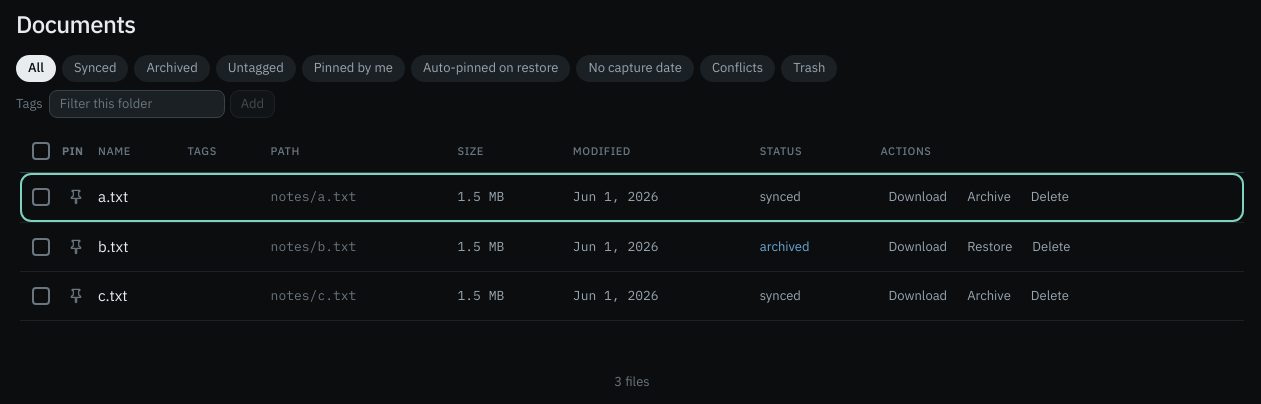
FileBrowser › should archive a synced row on demand
The width and height of the screenshot is (1261, 404).
expect the button "a.txt" is shown: met, box [98, 186, 128, 209]
Click the button "Archive" in the row of "notes/a.txt": (989, 197) [959, 184, 1019, 211]
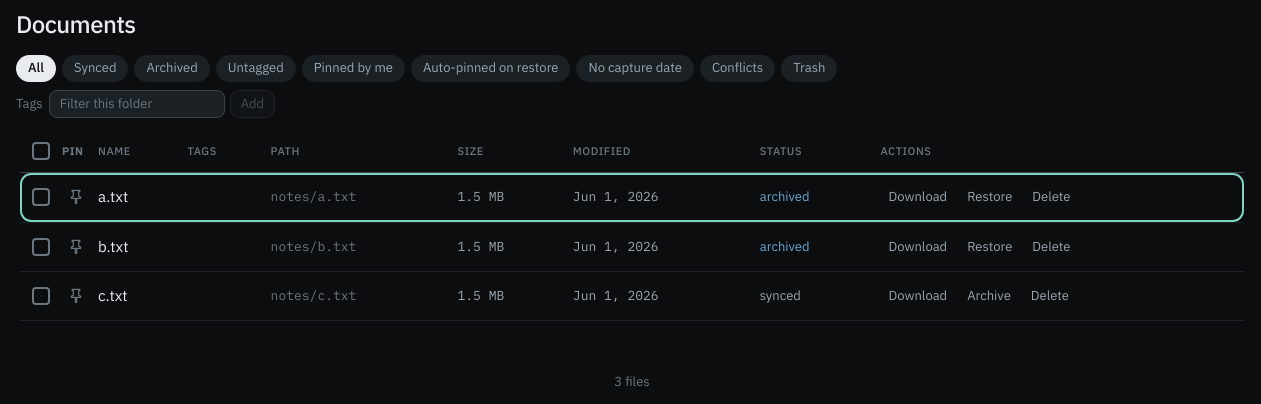
expect the text "archived" in the row of "notes/a.txt" is shown: met, box [760, 188, 810, 205]
